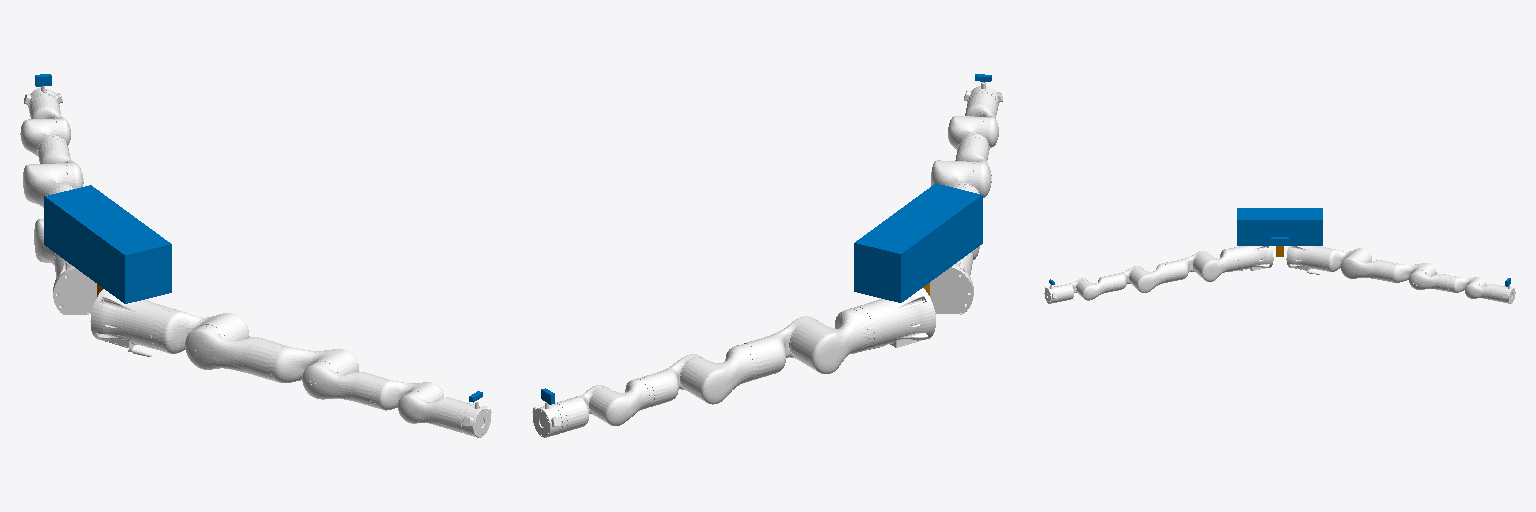
URDF robot description (dual_arm_description):
<?xml version="1.0" encoding="utf-8"?>
<!-- This URDF was automatically created by SolidWorks to URDF Exporter! Originally created by [author] ([email redacted]) 
     Commit Version: 1.6.0-1-g15f4949  Build Version: 1.6.7594.29634
     For more information, please see http://wiki.ros.org/sw_urdf_exporter -->
<robot
  name="dual_arm_description">
  <link
    name="base_link_body">
    <inertial>
      <origin
        xyz="0.0128539982690647 0.00024456315542483 0.454886228118401"
        rpy="0 0 0" />
      <mass
        value="4.84499867153642" />
      <inertia
        ixx="0.253916315389985"
        ixy="2.82770486252538E-05"
        ixz="0.0180888652883138"
        iyy="0.235976825156133"
        iyz="-0.00010574087379807"
        izz="0.0472926866224148" />
    </inertial>
  </link>
  <link
    name="leftarm_baselink">
    <inertial>
      <origin
        xyz="-0.000432999595117889 -0.0253647866812423 0.0543107766307502"
        rpy="0 0 0" />
      <mass
        value="0.841053943258763" />
      <inertia
        ixx="0.00172611644034238"
        ixy="1.78270466618467E-05"
        ixz="-3.22528352436582E-05"
        iyy="0.00156466360449768"
        iyz="0.000309735880833908"
        izz="0.0010492386490986" />
    </inertial>
    <visual>
      <origin
        xyz="0 0 0"
        rpy="0 0 0" />
      <geometry>
        <mesh
          filename="package://dual_arm_description/meshes/leftarm_baselink.STL" />
      </geometry>
      <material
        name="">
        <color
          rgba="1 1 1 1" />
      </material>
    </visual>
    <collision>
      <origin
        xyz="0 0 0"
        rpy="0 0 0" />
      <geometry>
        <mesh
          filename="package://dual_arm_description/meshes/leftarm_baselink.STL" />
      </geometry>
    </collision>
  </link>
  <joint
    name="joint_leftarm_baselink"
    type="fixed">
    <origin
      xyz="-0.048582 0.046209 0.8505"
      rpy="1.5708 1.5708 3.1416" />
    <parent
      link="base_link_body" />
    <child
      link="leftarm_baselink" />
    <axis
      xyz="0 0 0" />
  </joint>
  <link
    name="l_link1">
    <inertial>
      <origin
        xyz="1.2558322970424E-07 0.0211078394712095 -0.0251870141264139"
        rpy="0 0 0" />
      <mass
        value="0.593542791255359" />
      <inertia
        ixx="0.00126609481431553"
        ixy="-1.1660705508757E-08"
        ixz="-6.7144103650412E-09"
        iyy="0.00118163394832993"
        iyz="-0.00021119635150706"
        izz="0.000561330691579395" />
    </inertial>
    <visual>
      <origin
        xyz="0 0 0"
        rpy="0 0 0" />
      <geometry>
        <mesh
          filename="package://dual_arm_description/meshes/leftarm_link1.STL" />
      </geometry>
      <material
        name="">
        <color
          rgba="1 1 1 1" />
      </material>
    </visual>
    <collision>
      <origin
        xyz="0 0 0"
        rpy="0 0 0" />
      <geometry>
        <mesh
          filename="package://dual_arm_description/meshes/leftarm_link1.STL" />
      </geometry>
    </collision>
  </link>
  <joint
    name="l_joint1"
    type="revolute">
    <origin
      xyz="0 -0.10164 0.21797"
      rpy="0.43633 0 0" />
    <parent
      link="leftarm_baselink" />
    <child
      link="l_link1" />
    <axis
      xyz="0 0 1" />
    <limit
      lower="-3.17"
      upper="3.17"
      effort="100"
      velocity="1" />
  </joint>
  <link
    name="l_link2">
    <inertial>
      <origin
        xyz="0.152256639181586 -6.8741057290822E-08 -0.00620274964884654"
        rpy="0 0 0" />
      <mass
        value="0.864164535306825" />
      <inertia
        ixx="0.000632534815773631"
        ixy="7.118138868789E-09"
        ixz="0.000421613307265105"
        iyy="0.00205269245714842"
        iyz="-2.37409002005455E-09"
        izz="0.00195280632966444" />
    </inertial>
    <visual>
      <origin
        xyz="0 0 0"
        rpy="0 0 0" />
      <geometry>
        <mesh
          filename="package://dual_arm_description/meshes/leftarm_link2.STL" />
      </geometry>
      <material
        name="">
        <color
          rgba="1 1 1 1" />
      </material>
    </visual>
    <collision>
      <origin
        xyz="0 0 0"
        rpy="0 0 0" />
      <geometry>
        <mesh
          filename="package://dual_arm_description/meshes/leftarm_link2.STL" />
      </geometry>
    </collision>
  </link>
  <joint
    name="l_joint2"
    type="revolute">
    <origin
      xyz="0 0 0"
      rpy="1.5708 -1.5708 0" />
    <parent
      link="l_link1" />
    <child
      link="l_link2" />
    <axis
      xyz="0 0 1" />
    <limit
      lower="-2.269"
      upper="2.269"
      effort="100"
      velocity="1" />
  </joint>
  <link
    name="l_link3">
    <inertial>
      <origin
        xyz="4.581346443433E-06 -0.0595918690908317 0.0105678729075792"
        rpy="0 0 0" />
      <mass
        value="0.289627183438536" />
      <inertia
        ixx="0.000637372381443394"
        ixy="-6.1176938209959E-08"
        ixz="-3.47055290197872E-08"
        iyy="0.000156488372553995"
        iyz="-0.000144609986104378"
        izz="0.000614182528015267" />
    </inertial>
    <visual>
      <origin
        xyz="0 0 0"
        rpy="0 0 0" />
      <geometry>
        <mesh
          filename="package://dual_arm_description/meshes/leftarm_link3.STL" />
      </geometry>
      <material
        name="">
        <color
          rgba="1 1 1 1" />
      </material>
    </visual>
    <collision>
      <origin
        xyz="0 0 0"
        rpy="0 0 0" />
      <geometry>
        <mesh
          filename="package://dual_arm_description/meshes/leftarm_link3.STL" />
      </geometry>
    </collision>
  </link>
  <joint
    name="l_joint3"
    type="revolute">
    <origin
      xyz="0.256 0 0"
      rpy="0 0 1.5708" />
    <parent
      link="l_link2" />
    <child
      link="l_link3" />
    <axis
      xyz="0 0 1" />
    <limit
      lower="-2.356"
      upper="2.356"
      effort="100"
      velocity="1" />
  </joint>
  <link
    name="l_link4">
    <inertial>
      <origin
        xyz="1.24680132917998E-06 -0.0180408018957722 -0.0215409760570937"
        rpy="0 0 0" />
      <mass
        value="0.239401552827541" />
      <inertia
        ixx="0.000285939946652697"
        ixy="2.87028719092788E-09"
        ixz="-2.03297192163457E-09"
        iyy="0.000262727437679864"
        iyz="4.42371878984772E-05"
        izz="0.000119889210152995" />
    </inertial>
    <visual>
      <origin
        xyz="0 0 0"
        rpy="0 0 0" />
      <geometry>
        <mesh
          filename="package://dual_arm_description/meshes/leftarm_link4.STL" />
      </geometry>
      <material
        name="">
        <color
          rgba="1 1 1 1" />
      </material>
    </visual>
    <collision>
      <origin
        xyz="0 0 0"
        rpy="0 0 0" />
      <geometry>
        <mesh
          filename="package://dual_arm_description/meshes/leftarm_link4.STL" />
      </geometry>
    </collision>
  </link>
  <joint
    name="l_joint4"
    type="revolute">
    <origin
      xyz="0 -0.21 0"
      rpy="1.5708 0 0" />
    <parent
      link="l_link3" />
    <child
      link="l_link4" />
    <axis
      xyz="0 0 1" />
    <limit
      lower="-3.107"
      upper="3.107"
      effort="100"
      velocity="1" />
  </joint>
  <link
    name="l_link5">
    <inertial>
      <origin
        xyz="3.18527992748674E-06 -0.0593808069262866 0.00736685077974486"
        rpy="0 0 0" />
      <mass
        value="0.218788518710121" />
      <inertia
        ixx="0.00035053220334839"
        ixy="-2.91054107188612E-08"
        ixz="-1.69368293536455E-08"
        iyy="0.000104923882805524"
        iyz="-7.8240459135383E-05"
        izz="0.000334473394056977" />
    </inertial>
    <visual>
      <origin
        xyz="0 0 0"
        rpy="0 0 0" />
      <geometry>
        <mesh
          filename="package://dual_arm_description/meshes/leftarm_link5.STL" />
      </geometry>
      <material
        name="">
        <color
          rgba="1 1 1 1" />
      </material>
    </visual>
    <collision>
      <origin
        xyz="0 0 0"
        rpy="0 0 0" />
      <geometry>
        <mesh
          filename="package://dual_arm_description/meshes/leftarm_link5.STL" />
      </geometry>
    </collision>
  </link>
  <joint
    name="l_joint5"
    type="revolute">
    <origin
      xyz="0 0 0"
      rpy="-1.5708 0 0" />
    <parent
      link="l_link4" />
    <child
      link="l_link5" />
    <axis
      xyz="0 0 1" />
    <limit
      lower="-2.234"
      upper="2.234"
      effort="100"
      velocity="1" />
  </joint>
  <link
    name="l_link6">
    <inertial>
      <origin
        xyz="0.000815494474258882 1.33024504395673E-05 -0.0127046894991738"
        rpy="0 0 0" />
      <mass
        value="0.0650365013096983" />
      <inertia
        ixx="2.11435758493354E-05"
        ixy="-2.27635075237127E-08"
        ixz="-2.54504574357203E-08"
        iyy="1.81086373188316E-05"
        iyz="-1.02171121765921E-08"
        izz="3.18999881344653E-05" />
    </inertial>
    <visual>
      <origin
        xyz="0 0 0"
        rpy="0 0 0" />
      <geometry>
        <mesh
          filename="package://dual_arm_description/meshes/leftarm_link6.STL" />
      </geometry>
      <material
        name="">
        <color
          rgba="1 1 1 1" />
      </material>
    </visual>
    <collision>
      <origin
        xyz="0 0 0"
        rpy="0 0 0" />
      <geometry>
        <mesh
          filename="package://dual_arm_description/meshes/leftarm_link6.STL" />
      </geometry>
    </collision>
  </link>
  <joint
    name="l_joint6"
    type="revolute">
    <origin
      xyz="0 -0.144 0"
      rpy="1.5708 0 0" />
    <parent
      link="l_link5" />
    <child
      link="l_link6" />
    <axis
      xyz="0 0 1" />
    <limit
      lower="-6.283"
      upper="6.283"
      effort="100"
      velocity="1" />
  </joint>

  <link
    name="rightarm_baselink">
    <inertial>
      <origin
        xyz="-0.000433113884992009 -3.51019227824573E-05 0.0599421388510736"
        rpy="0 0 0" />
      <mass
        value="0.841043880067011" />
      <inertia
        ixx="0.00172610477060889"
        ixy="2.52732087166354E-06"
        ixz="-3.67683678117906E-05"
        iyy="0.00170986821986806"
        iyz="1.68071317514513E-06"
        izz="0.000904018060785049" />
    </inertial>
    <visual>
      <origin
        xyz="0 0 0"
        rpy="0 0 0" />
      <geometry>
        <mesh
          filename="package://dual_arm_description/meshes/rightarm_baselink.STL" />
      </geometry>
      <material
        name="">
        <color
          rgba="1 1 1 1" />
      </material>
    </visual>
    <collision>
      <origin
        xyz="0 0 0"
        rpy="0 0 0" />
      <geometry>
        <mesh
          filename="package://dual_arm_description/meshes/rightarm_baselink.STL" />
      </geometry>
    </collision>
  </link>
  <joint
    name="joint_rightarm_baselink"
    type="fixed">
    <origin
      xyz="-0.048582 -0.045624 0.8505"
      rpy="-1.5708 1.5708 -2.7053" />
    <parent
      link="base_link_body" />
    <child
      link="rightarm_baselink" />
    <axis
      xyz="0 0 0" />
  </joint>
  <link
    name="r_link1">
    <inertial>
      <origin
        xyz="2.4328534264928E-07 0.0211084151465185 -0.0251857587696857"
        rpy="0 0 0" />
      <mass
        value="0.593559090524872" />
      <inertia
        ixx="0.00126612995129149"
        ixy="-1.49938755826745E-08"
        ixz="1.27507001829319E-08"
        iyy="0.00118166925262709"
        iyz="-0.000211214528270289"
        izz="0.000561349546552977" />
    </inertial>
    <visual>
      <origin
        xyz="0 0 0"
        rpy="0 0 0" />
      <geometry>
        <mesh
          filename="package://dual_arm_description/meshes/rightarm_link1.STL" />
      </geometry>
      <material
        name="">
        <color
          rgba="1 1 1 1" />
      </material>
    </visual>
    <collision>
      <origin
        xyz="0 0 0"
        rpy="0 0 0" />
      <geometry>
        <mesh
          filename="package://dual_arm_description/meshes/rightarm_link1.STL" />
      </geometry>
    </collision>
  </link>
  <joint
    name="r_joint1"
    type="revolute">
    <origin
      xyz="0 0 0.2405"
      rpy="0 0 0" />
    <parent
      link="rightarm_baselink" />
    <child
      link="r_link1" />
    <axis
      xyz="0 0 1" />
    <limit
      lower="-3.17"
      upper="3.17"
      effort="100"
      velocity="1" />
  </joint>
  <link
    name="r_link2">
    <inertial>
      <origin
        xyz="0.152255830104308 -1.0467066902109E-07 -0.00620257380254835"
        rpy="0 0 0" />
      <mass
        value="0.864167223088339" />
      <inertia
        ixx="0.000632535359777888"
        ixy="-1.02597241036801E-08"
        ixz="0.00042162057577217"
        iyy="0.00205270852835029"
        iyz="8.03680128129144E-10"
        izz="0.00195281903232891" />
    </inertial>
    <visual>
      <origin
        xyz="0 0 0"
        rpy="0 0 0" />
      <geometry>
        <mesh
          filename="package://dual_arm_description/meshes/rightarm_link2.STL" />
      </geometry>
      <material
        name="">
        <color
          rgba="1 1 1 1" />
      </material>
    </visual>
    <collision>
      <origin
        xyz="0 0 0"
        rpy="0 0 0" />
      <geometry>
        <mesh
          filename="package://dual_arm_description/meshes/rightarm_link2.STL" />
      </geometry>
    </collision>
  </link>
  <joint
    name="r_joint2"
    type="revolute">
    <origin
      xyz="0 0 0"
      rpy="1.5708 -1.5708 0" />
    <parent
      link="r_link1" />
    <child
      link="r_link2" />
    <axis
      xyz="0 0 1" />
    <limit
      lower="-2.269"
      upper="2.269"
      effort="100"
      velocity="1" />
  </joint>
  <link
    name="r_link3">
    <inertial>
      <origin
        xyz="5.52391717467682E-06 -0.0595916227122395 0.0105703991743573"
        rpy="0 0 0" />
      <mass
        value="0.289630363340933" />
      <inertia
        ixx="0.000637371082598885"
        ixy="-7.65858084986364E-08"
        ixz="-4.16812573472858E-08"
        iyy="0.000156481849154391"
        iyz="-0.000144610812036888"
        izz="0.000614175688513162" />
    </inertial>
    <visual>
      <origin
        xyz="0 0 0"
        rpy="0 0 0" />
      <geometry>
        <mesh
          filename="package://dual_arm_description/meshes/rightarm_link3.STL" />
      </geometry>
      <material
        name="">
        <color
          rgba="1 1 1 1" />
      </material>
    </visual>
    <collision>
      <origin
        xyz="0 0 0"
        rpy="0 0 0" />
      <geometry>
        <mesh
          filename="package://dual_arm_description/meshes/rightarm_link3.STL" />
      </geometry>
    </collision>
  </link>
  <joint
    name="r_joint3"
    type="revolute">
    <origin
      xyz="0.256 0 0"
      rpy="0 0 1.5708" />
    <parent
      link="r_link2" />
    <child
      link="r_link3" />
    <axis
      xyz="0 0 1" />
    <limit
      lower="-2.356"
      upper="2.356"
      effort="100"
      velocity="1" />
  </joint>
  <link
    name="r_link4">
    <inertial>
      <origin
        xyz="1.3415659080307E-06 -0.0180409868337329 -0.0215412554023469"
        rpy="0 0 0" />
      <mass
        value="0.239404736569047" />
      <inertia
        ixx="0.000285944037894423"
        ixy="-9.61106690777394E-10"
        ixz="-1.71729709223439E-10"
        iyy="0.000262730635061587"
        iyz="4.42385748513819E-05"
        izz="0.000119896966999011" />
    </inertial>
    <visual>
      <origin
        xyz="0 0 0"
        rpy="0 0 0" />
      <geometry>
        <mesh
          filename="package://dual_arm_description/meshes/rightarm_link4.STL" />
      </geometry>
      <material
        name="">
        <color
          rgba="1 1 1 1" />
      </material>
    </visual>
    <collision>
      <origin
        xyz="0 0 0"
        rpy="0 0 0" />
      <geometry>
        <mesh
          filename="package://dual_arm_description/meshes/rightarm_link4.STL" />
      </geometry>
    </collision>
  </link>
  <joint
    name="r_joint4"
    type="revolute">
    <origin
      xyz="0 -0.21 0"
      rpy="1.5708 0 0" />
    <parent
      link="r_link3" />
    <child
      link="r_link4" />
    <axis
      xyz="0 0 1" />
    <limit
      lower="-3.107"
      upper="3.107"
      effort="100"
      velocity="1" />
  </joint>
  <link
    name="r_link5">
    <inertial>
      <origin
        xyz="3.30037335949385E-06 -0.0593804290076836 0.00736919202783246"
        rpy="0 0 0" />
      <mass
        value="0.218794351178889" />
      <inertia
        ixx="0.000350538397335421"
        ixy="-3.50100440529632E-08"
        ixz="-1.82096966746362E-08"
        iyy="0.000104927580577148"
        iyz="-7.82424194508105E-05"
        izz="0.000334480013682156" />
    </inertial>
    <visual>
      <origin
        xyz="0 0 0"
        rpy="0 0 0" />
      <geometry>
        <mesh
          filename="package://dual_arm_description/meshes/rightarm_link5.STL" />
      </geometry>
      <material
        name="">
        <color
          rgba="1 1 1 1" />
      </material>
    </visual>
    <collision>
      <origin
        xyz="0 0 0"
        rpy="0 0 0" />
      <geometry>
        <mesh
          filename="package://dual_arm_description/meshes/rightarm_link5.STL" />
      </geometry>
    </collision>
  </link>
  <joint
    name="r_joint5"
    type="revolute">
    <origin
      xyz="0 0 0"
      rpy="-1.5708 0 0" />
    <parent
      link="r_link4" />
    <child
      link="r_link5" />
    <axis
      xyz="0 0 1" />
    <limit
      lower="-2.234"
      upper="2.234"
      effort="100"
      velocity="1" />
  </joint>
  <link
    name="r_link6">
    <inertial>
      <origin
        xyz="0.000815489194820551 1.33391176037612E-05 -0.0127046894116005"
        rpy="0 0 0" />
      <mass
        value="0.0650364924056105" />
      <inertia
        ixx="2.11435848447242E-05"
        ixy="-2.27832144631255E-08"
        ixz="-2.54487581488625E-08"
        iyy="1.81086225915782E-05"
        iyz="-1.02139856060162E-08"
        izz="3.18999828483013E-05" />
    </inertial>
    <visual>
      <origin
        xyz="0 0 0"
        rpy="0 0 0" />
      <geometry>
        <mesh
          filename="package://dual_arm_description/meshes/rightarm_link6.STL" />
      </geometry>
      <material
        name="">
        <color
          rgba="1 1 1 1" />
      </material>
    </visual>
    <collision>
      <origin
        xyz="0 0 0"
        rpy="0 0 0" />
      <geometry>
        <mesh
          filename="package://dual_arm_description/meshes/rightarm_link6.STL" />
      </geometry>
    </collision>
  </link>
  <joint
    name="r_joint6"
    type="revolute">
    <origin
      xyz="0 -0.144 0"
      rpy="1.5708 0 0" />
    <parent
      link="r_link5" />
    <child
      link="r_link6" />
    <axis
      xyz="0 0 1" />
    <limit
      lower="-6.283"
      upper="6.283"
      effort="100"
      velocity="1" />
  </joint>

  <link
    name="head_link_roll">
    <inertial>
      <origin
        xyz="0.000965050199501993 -0.000187498154722046 0.0178488897188962"
        rpy="0 0 0" />
      <mass
        value="0.0457689990714142" />
      <inertia
        ixx="1.92774546666648E-05"
        ixy="-8.48834505428225E-10"
        ixz="9.09083371040604E-07"
        iyy="1.32339747540687E-05"
        iyz="7.41262799111429E-08"
        izz="1.08702200159287E-05" />
    </inertial>
    <visual>
            <geometry>
                <box size="0.03 0.03 0.15"/>
            </geometry>
            <material name="red">
                <color rgba="0.8 .5 .0 .5"/>
            </material>
        </visual>
    <collision>
      <origin
        xyz="0 0 0"
        rpy="0 0 0" />
      <geometry>
        <mesh
          filename="package://dual_arm_description/meshes/head_link_roll.STL" />
      </geometry>
    </collision>
  </link>


  <joint
    name="joint_head_link_roll"
    type="revolute">
    <origin
      xyz="-0.020729 0.00029234 0.9295"
      rpy="0 0 0" />
    <parent
      link="base_link_body" />
    <child
      link="head_link_roll" />
    <axis
      xyz="0 0 -1" />
    <limit
      lower="-1.57"
      upper="1.57"
      effort="100"
      velocity="1" />
  </joint>
  <link
    name="head_link_pitch">

<visual>
            <geometry>
                <box size="0.1 0.3 0.1"/>
            </geometry>
            <material name="blue">
                <color rgba="0 .5 .8 .5"/>
            </material>
        </visual>

  </link>


  <joint
    name="joint_head_link_pitch"
    type="revolute">
    <origin
      xyz="0 0.0 0.0345"
      rpy="0 0 0" />
    <parent
      link="head_link_roll" />
    <child
      link="head_link_pitch" />
    <axis
      xyz="0 -1 0" />
    <limit
      lower="-0.523"
      upper="0.174"
      effort="100"
      velocity="1" />
  </joint>

<link name="l_camera">
        <visual>
            <geometry>
                <box size="0.02 0.03 0.01"/>
            </geometry>
            <material name="blue">
                <color rgba="0 .5 .8 .5"/>
            </material>
        </visual>
    </link>
    <joint
    name="l_joint_camera"
    type="fixed">
    <origin
      xyz="0.05 -0. -0.015"
      rpy="0 3.14 0" />
    <parent
      link="l_link6" />
    <child
      link="l_camera" />
    <axis
      xyz="0 0 1" />
  </joint>

<link name="r_camera">
        <visual>
            <geometry>
                <box size="0.01 0.03 0.01"/>
            </geometry>
            <material name="blue">
                <color rgba="0 .5 .8 .5"/>
            </material>
        </visual>
    </link>
    <joint
    name="r_joint_camera"
    type="fixed">
    <origin
      xyz="0.05 -0. -0.015"
      rpy="0 3.14 0" />
    <parent
      link="r_link6" />
    <child
      link="r_camera" />
    <axis
      xyz="0 0 1" />
  </joint>
<link name="head_camera">
        <visual>
            <geometry>
                <box size="0.02 0.06 0.03"/>
            </geometry>
            <material name="blue2">
                <color rgba="0 .5 .8 1"/>
            </material>
        </visual>
    </link>
    <joint
    name="head_joint_camera"
    type="fixed">
    <origin
      xyz="0.05 -0. -0.025"
      rpy="3.14 1.57 0" />
    <parent
      link="head_link_pitch" />
    <child
      link="head_camera" />
    <axis
      xyz="0 0 1" />
  </joint>
</robot>

--- Facts derived from the render (not from the file) ---
Views: 3 orthographic renders of the robot side by side, from view 1: azimuth 30°, elevation 25°; view 2: azimuth 150°, elevation 25°; view 3: azimuth 270°, elevation 25°.
Model dual_arm_description with 20 links and 19 joints (14 revolute, 5 fixed), rooted at base_link_body, posed all joints at 0.
Visible links, largest first — view 1: head_link_pitch, r_link2, rightarm_baselink, r_link1, r_link3, leftarm_baselink, r_link5, l_link2, r_link4, l_link3, l_link4, l_link5 (+2 smaller); view 2: head_link_pitch, l_link2, l_link1, leftarm_baselink, rightarm_baselink, l_link4, r_link3, l_link3, r_link2, r_link5, l_link5, r_link4 (+1 smaller); view 3: head_link_pitch, l_link2, r_link2, r_link1, leftarm_baselink, rightarm_baselink, l_link3, l_link1, l_link5.
Link boxes in pixels (box(x1,y1,x2,y2)): head_link_pitch: box(44, 185, 171, 303); r_link2: box(185, 326, 358, 382); rightarm_baselink: box(90, 289, 171, 356); r_link1: box(156, 309, 249, 353); r_link3: box(302, 362, 385, 407); leftarm_baselink: box(53, 255, 96, 314); r_link5: box(398, 392, 471, 432); l_link2: box(23, 163, 74, 207); r_link4: box(374, 379, 443, 410); l_link3: box(38, 138, 83, 188); l_link4: box(20, 118, 68, 155); l_link5: box(29, 94, 70, 144); head_link_pitch: box(854, 183, 982, 302); l_link2: box(680, 316, 817, 404); l_link1: box(789, 308, 869, 373); leftarm_baselink: box(854, 288, 935, 350); rightarm_baselink: box(930, 253, 973, 314); l_link4: box(589, 378, 650, 425); r_link3: box(955, 136, 991, 197); l_link3: box(640, 354, 702, 407); r_link2: box(931, 160, 979, 259); r_link5: box(965, 92, 998, 147); l_link5: box(553, 385, 607, 432); r_link4: box(948, 116, 989, 149); head_link_pitch: box(1237, 208, 1322, 245); l_link2: box(1341, 256, 1436, 282); r_link2: box(1129, 251, 1207, 292); r_link1: box(1193, 248, 1235, 281); leftarm_baselink: box(1286, 246, 1329, 274); rightarm_baselink: box(1230, 246, 1273, 270); l_link3: box(1409, 271, 1454, 291); l_link1: box(1324, 248, 1371, 271); l_link5: box(1465, 283, 1505, 301).
Bounding box of the posed robot: 0.4398 × 1.66 × 0.2228 m (x, y, z).
Meshes: 14 distinct files referenced, 14 mesh visuals loaded (14 binary STL).